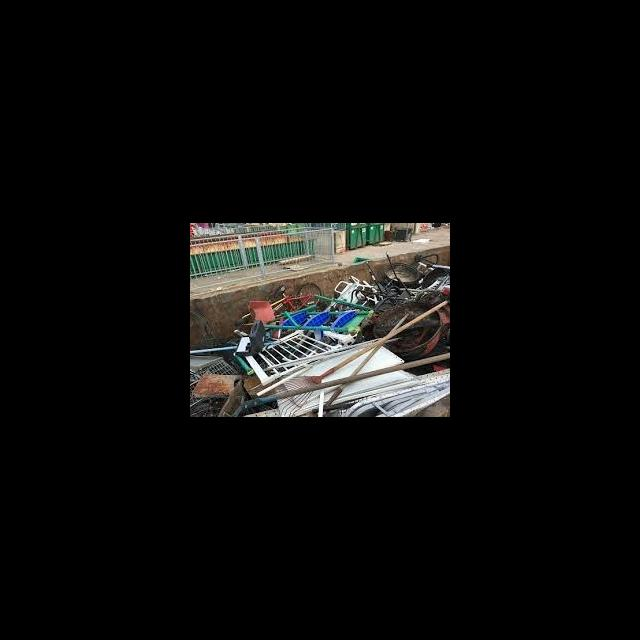metal: (242, 326, 347, 386), (370, 297, 444, 360), (232, 318, 272, 360), (191, 369, 245, 400), (331, 274, 383, 305), (380, 257, 425, 290)
